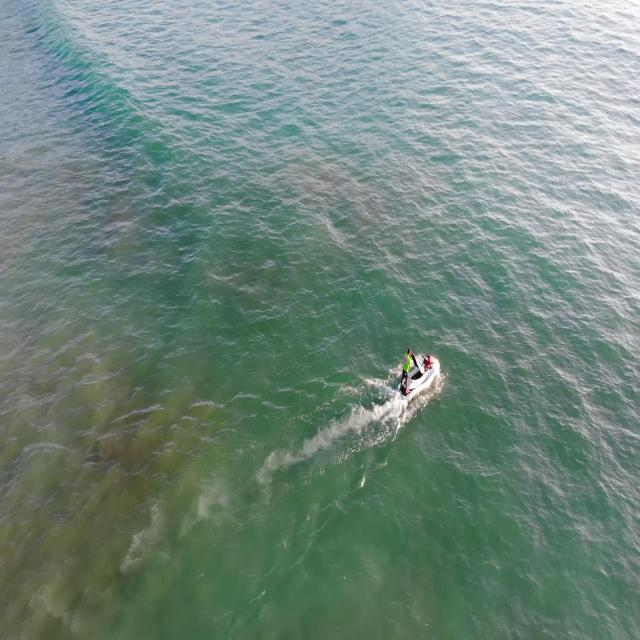boat: (392, 342, 440, 413)
